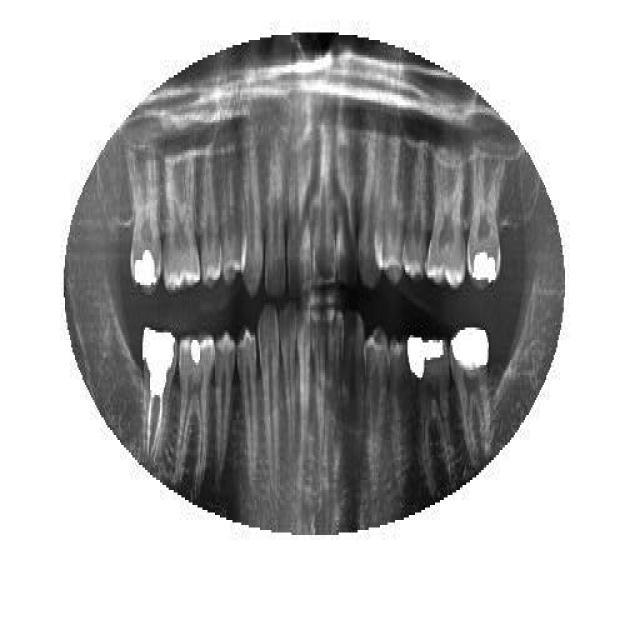dolgu: (122, 239, 164, 286), (408, 330, 447, 380), (466, 233, 499, 282), (176, 337, 212, 367)
kanal-tedavisi: (130, 386, 172, 461)
kaplama: (138, 324, 174, 390), (450, 324, 494, 366)
